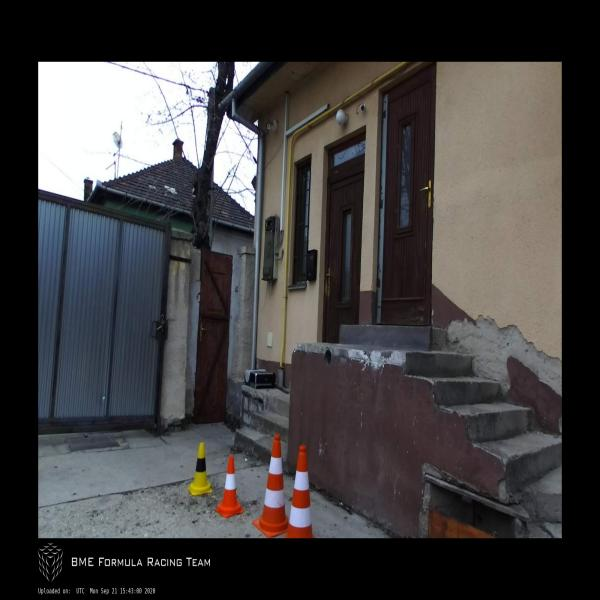large_orange_cone: (252, 434, 289, 538), (284, 445, 316, 538)
orange_cone: (214, 456, 245, 518)
yellow_cone: (188, 442, 212, 496)
